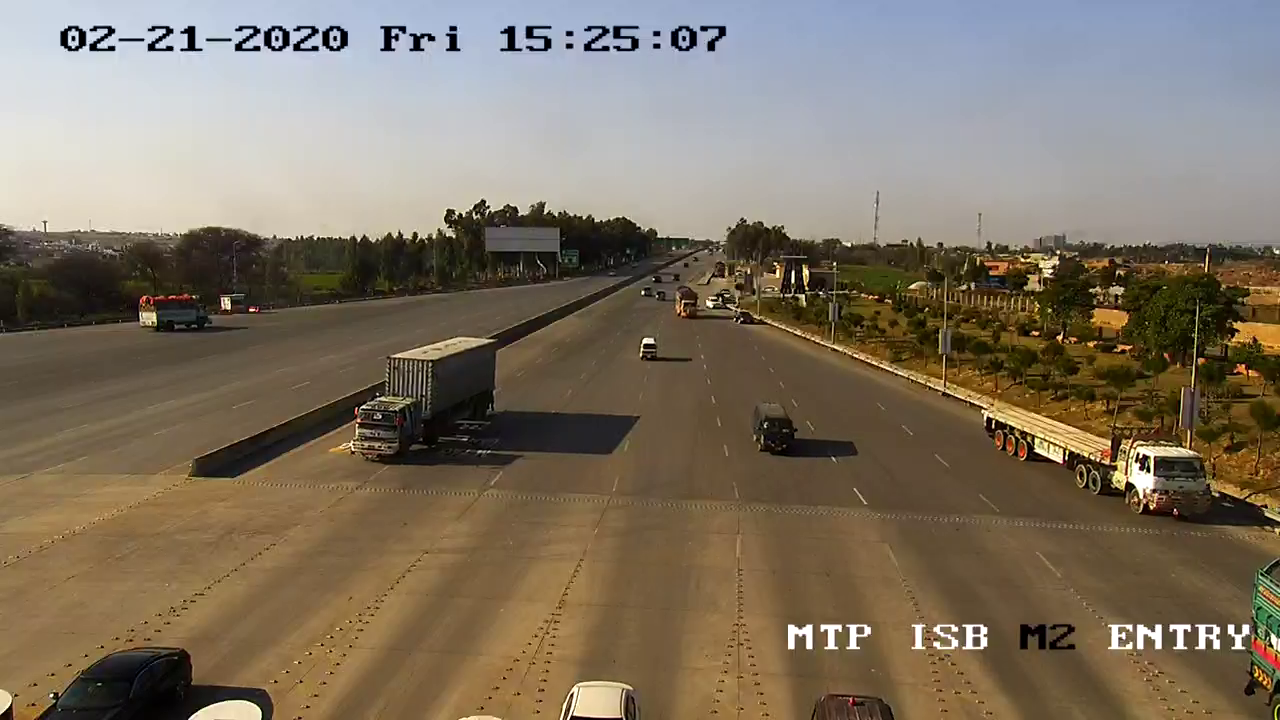f2: (745, 393, 811, 461)
f6: (977, 397, 1221, 521), (346, 331, 506, 474)
